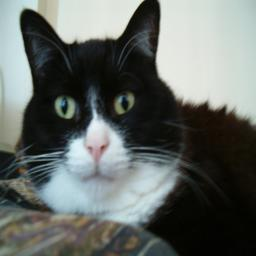catnose: (83, 129, 112, 165)
